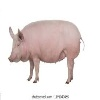heo: (7, 19, 85, 85)
